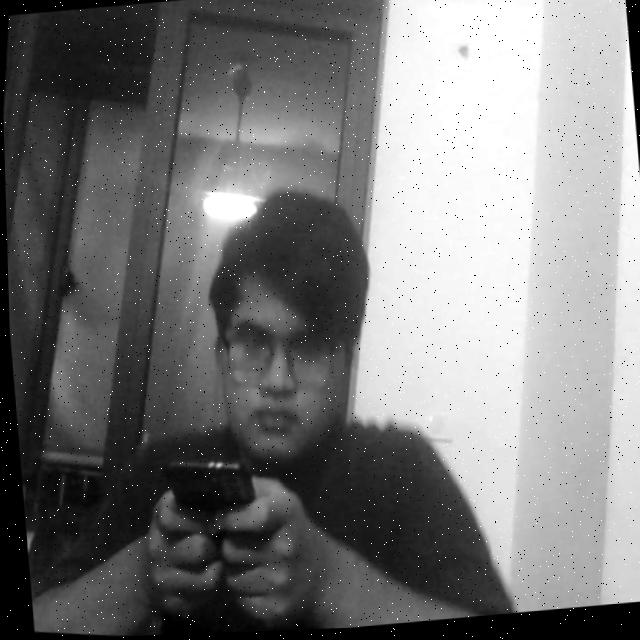phone: (131, 427, 291, 588)
